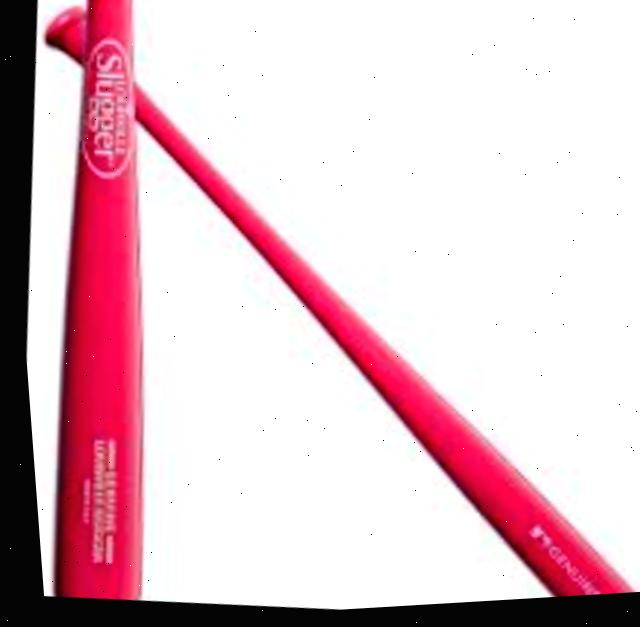baseball bat: (44, 11, 632, 603), (0, 0, 197, 605)
